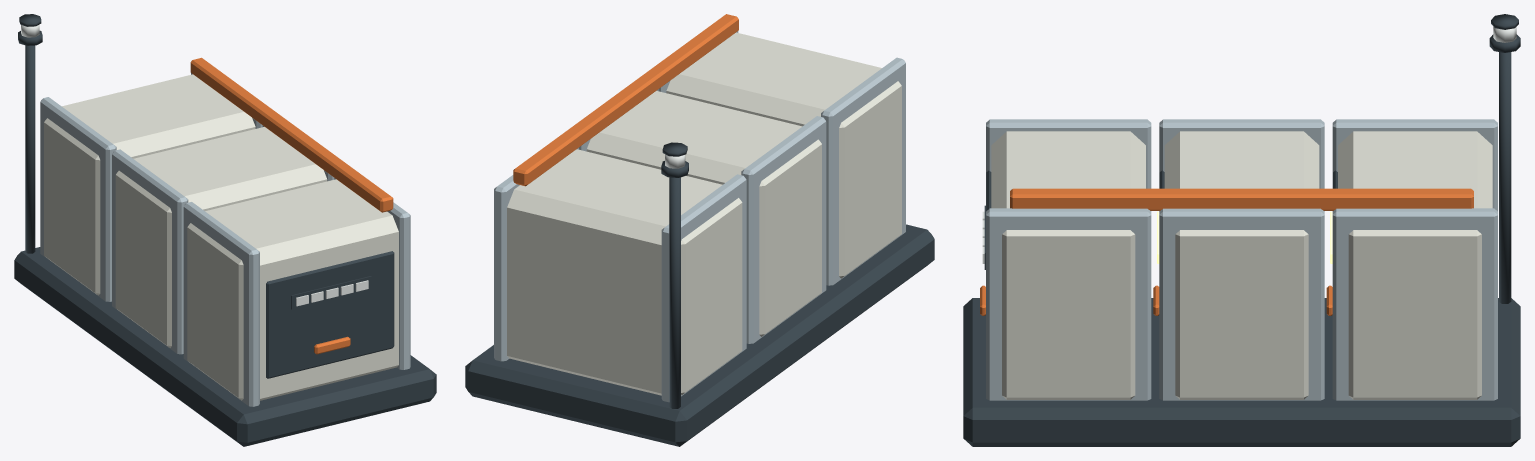
The model's file is battery.glb.
3 views of the same model, side by side, from view 1: azimuth 30°, elevation 25°; view 2: azimuth 150°, elevation 25°; view 3: azimuth 270°, elevation 25° (orthographic). The views are drawn at different scales.
Parts seen in each view (by area): view 1: battery_ivory.002, battery_dark.002, battery_metal.002, battery_orange.002, Cell bezel; view 2: battery_ivory.002, battery_dark.002, battery_metal.002, battery_orange.002; view 3: battery_ivory.002, battery_metal.002, battery_dark.002, battery_orange.002.
Part boxes in pixels (x1,y1,x2,y2): battery_ivory.002: [44, 74, 398, 400]; battery_dark.002: [14, 14, 436, 446]; battery_metal.002: [40, 73, 410, 406]; battery_orange.002: [190, 57, 393, 354]; Cell bezel: [291, 276, 371, 309]; battery_ivory.002: [507, 32, 901, 395]; battery_dark.002: [465, 142, 934, 446]; battery_metal.002: [494, 31, 905, 402]; battery_orange.002: [513, 14, 738, 186]; battery_ivory.002: [991, 131, 1492, 399]; battery_metal.002: [986, 119, 1497, 400]; battery_dark.002: [963, 14, 1520, 446]; battery_orange.002: [980, 188, 1473, 315].
Size of the model in its own units: 1.8 by 2.29 by 3.6.
